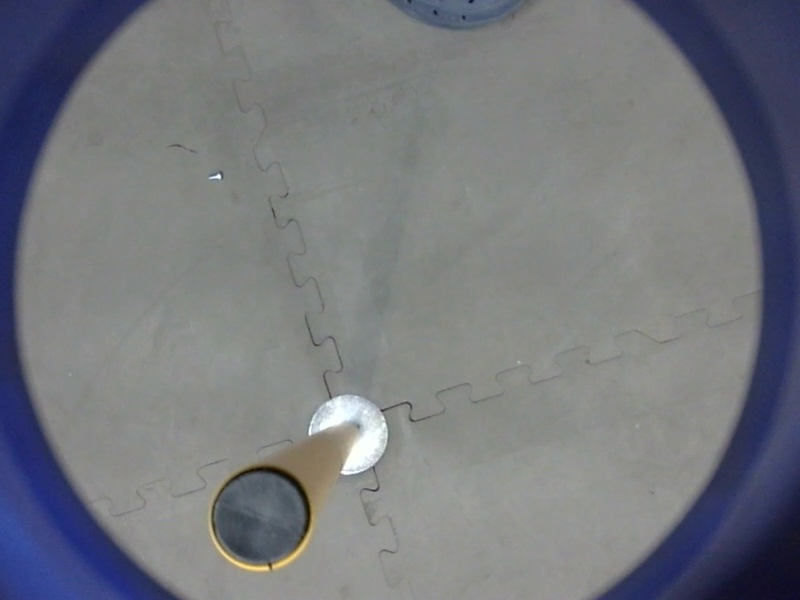tip: (205, 461, 319, 575)
